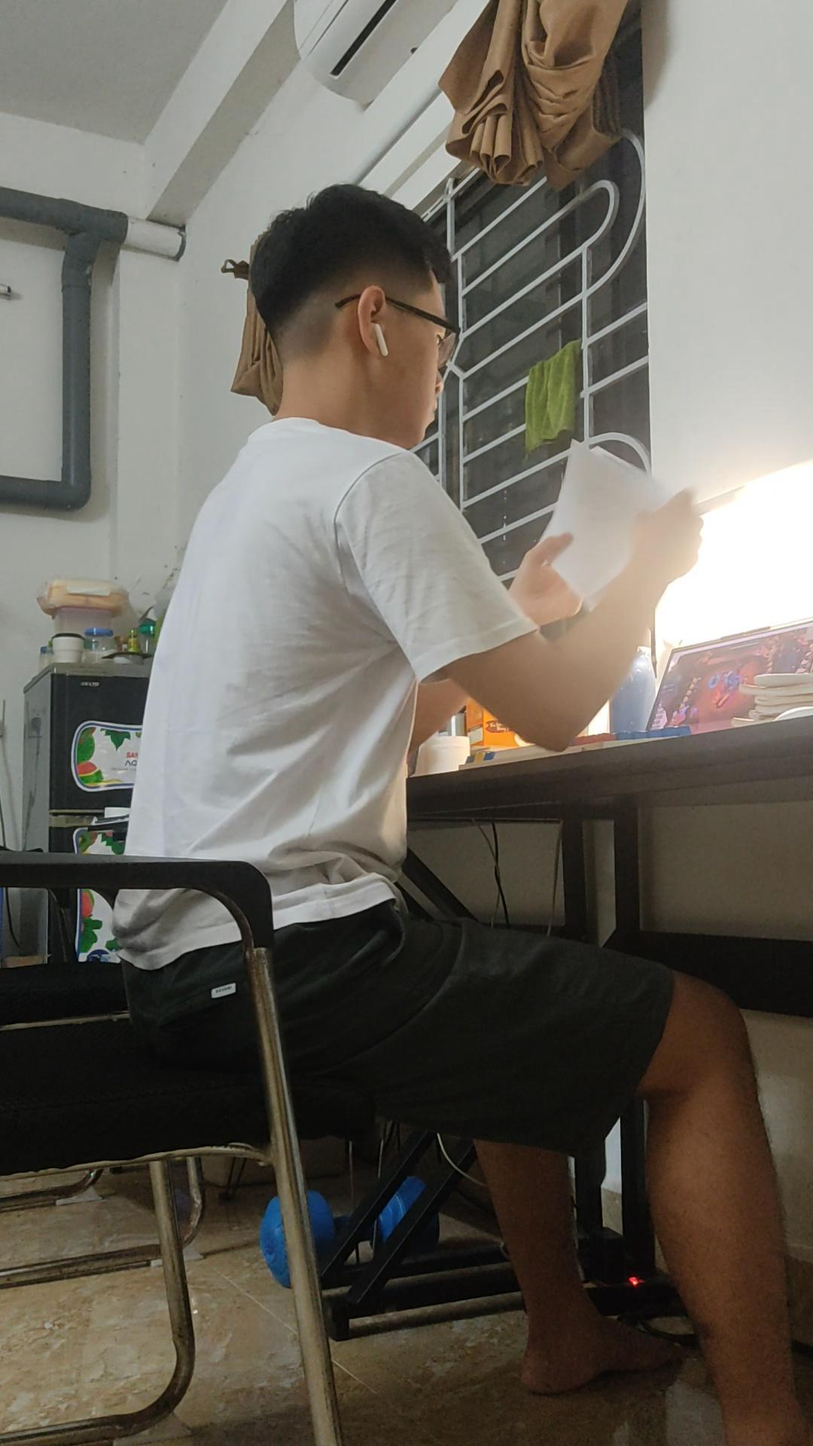GoodPosture: (128, 186, 812, 1445)
